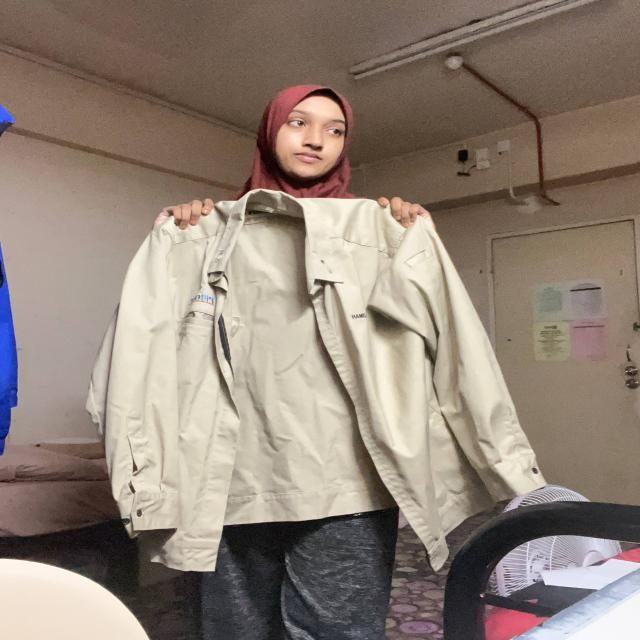person_without_labcoat: (88, 86, 545, 640)
